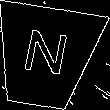N_S: (18, 29, 73, 85)
